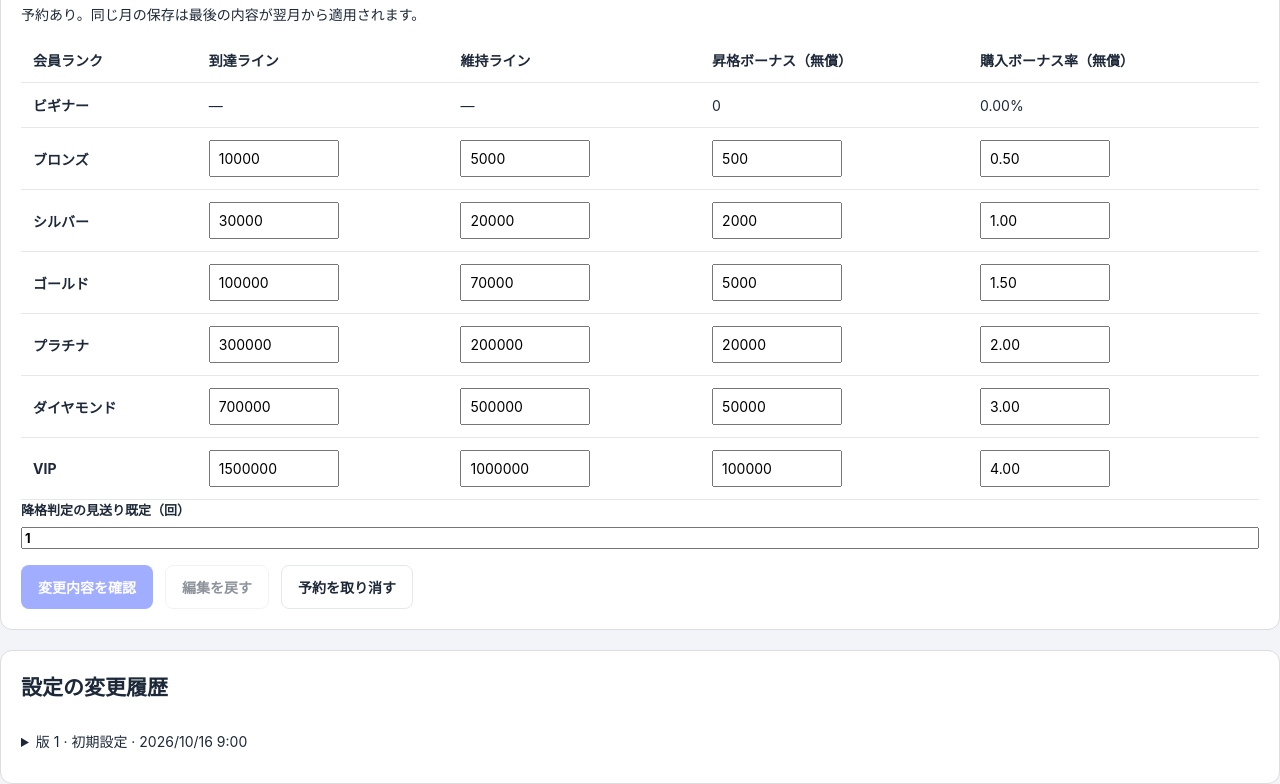
Scenario: Member rank settings › confirms cancellation and sends expected revision
(page scrolled)
Click the button "予約を取り消す" at {"x": 347, "y": 587}, box [281,565,413,609]
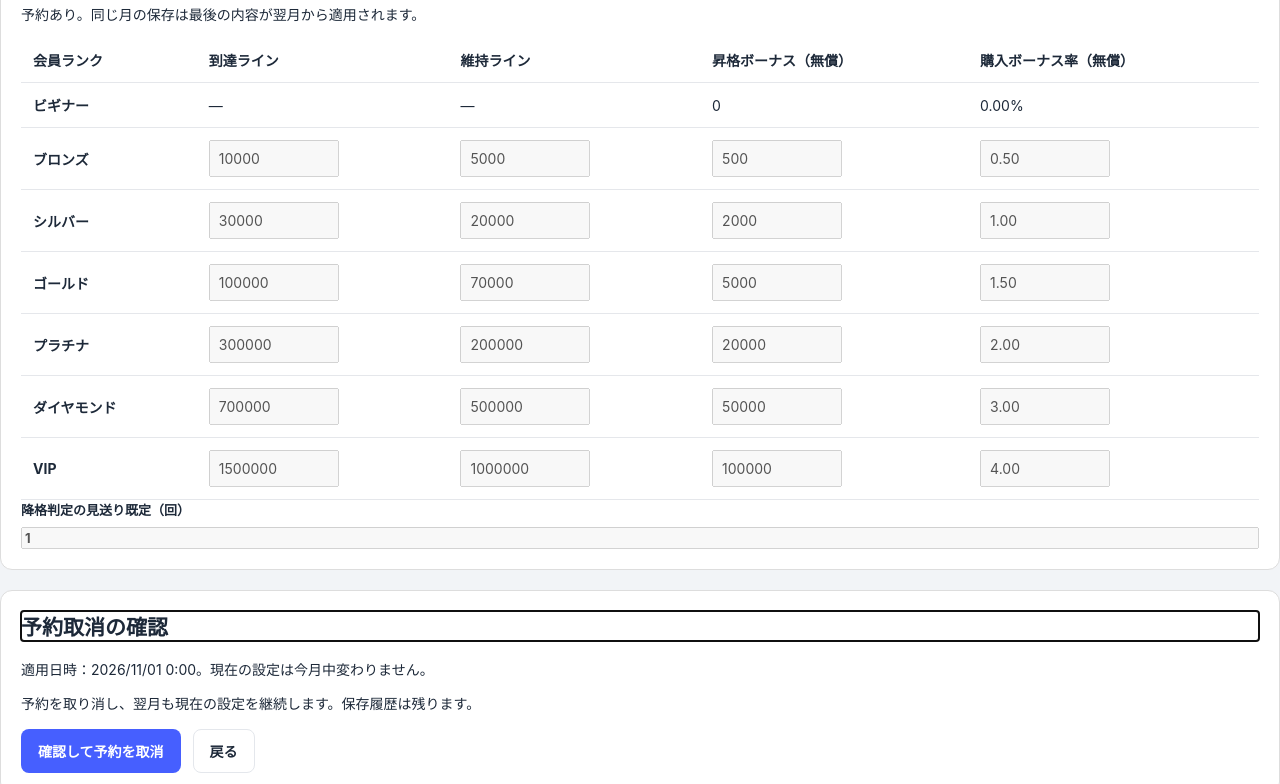
Click the button "確認して予約を取消" at {"x": 101, "y": 751}, box [21,729,181,773]
(page scrolled)
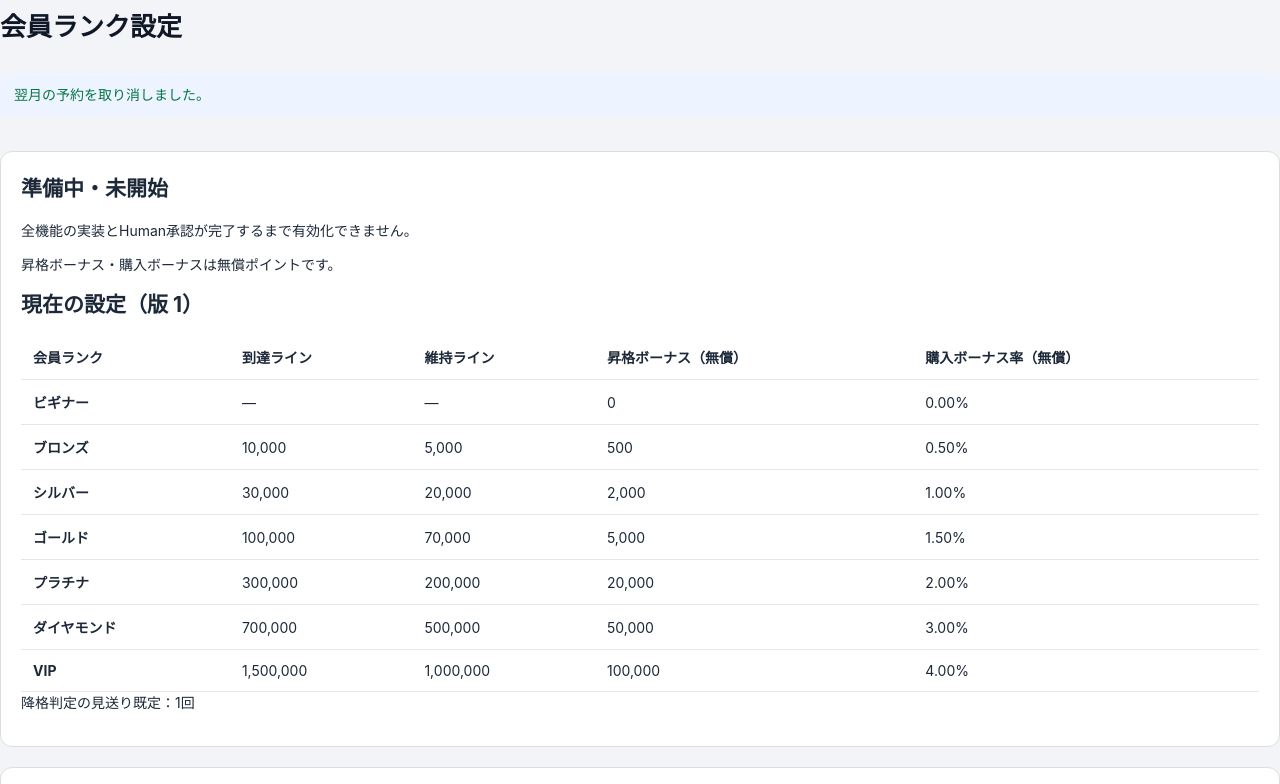
Now the text "翌月の予約を取り消しました。" is shown, box [0,73,1279,117]
